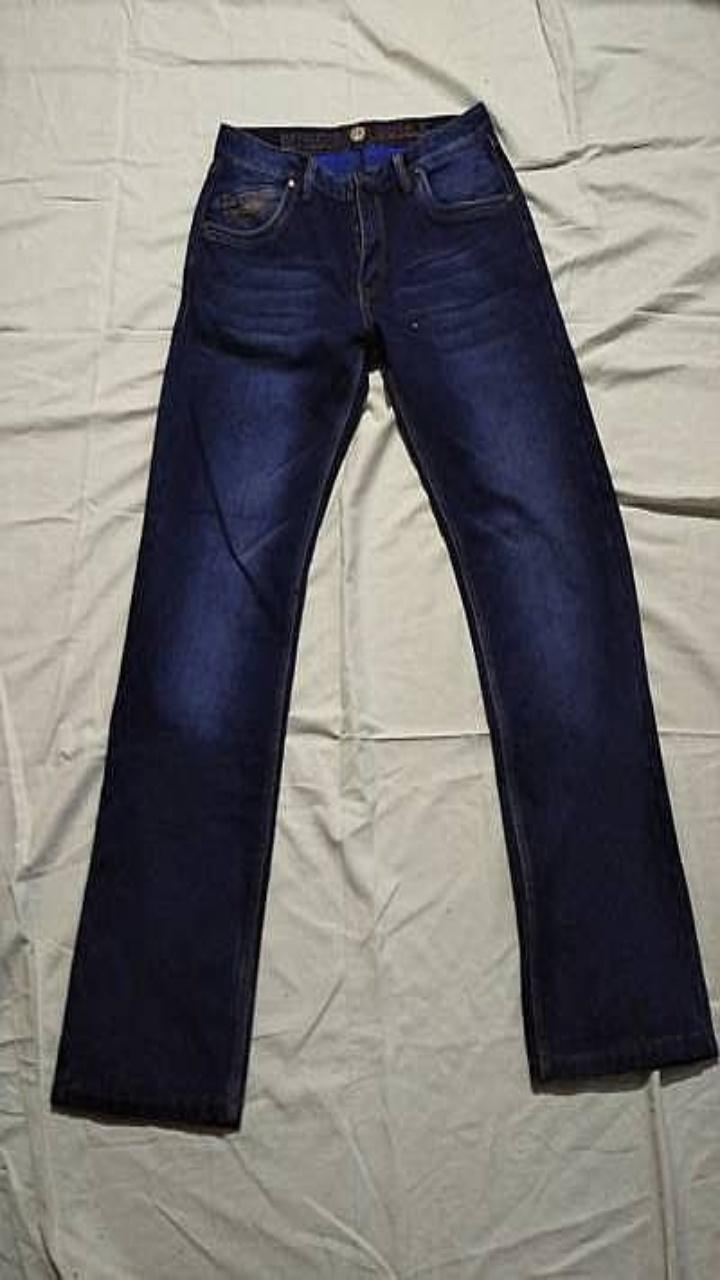Jeans: (51, 101, 716, 1127)
